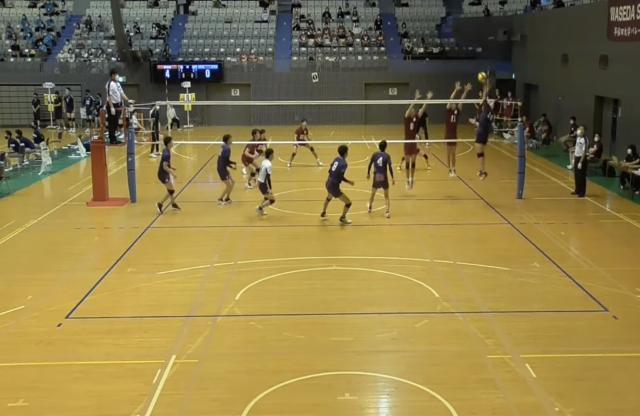spike: (474, 71, 502, 186)
